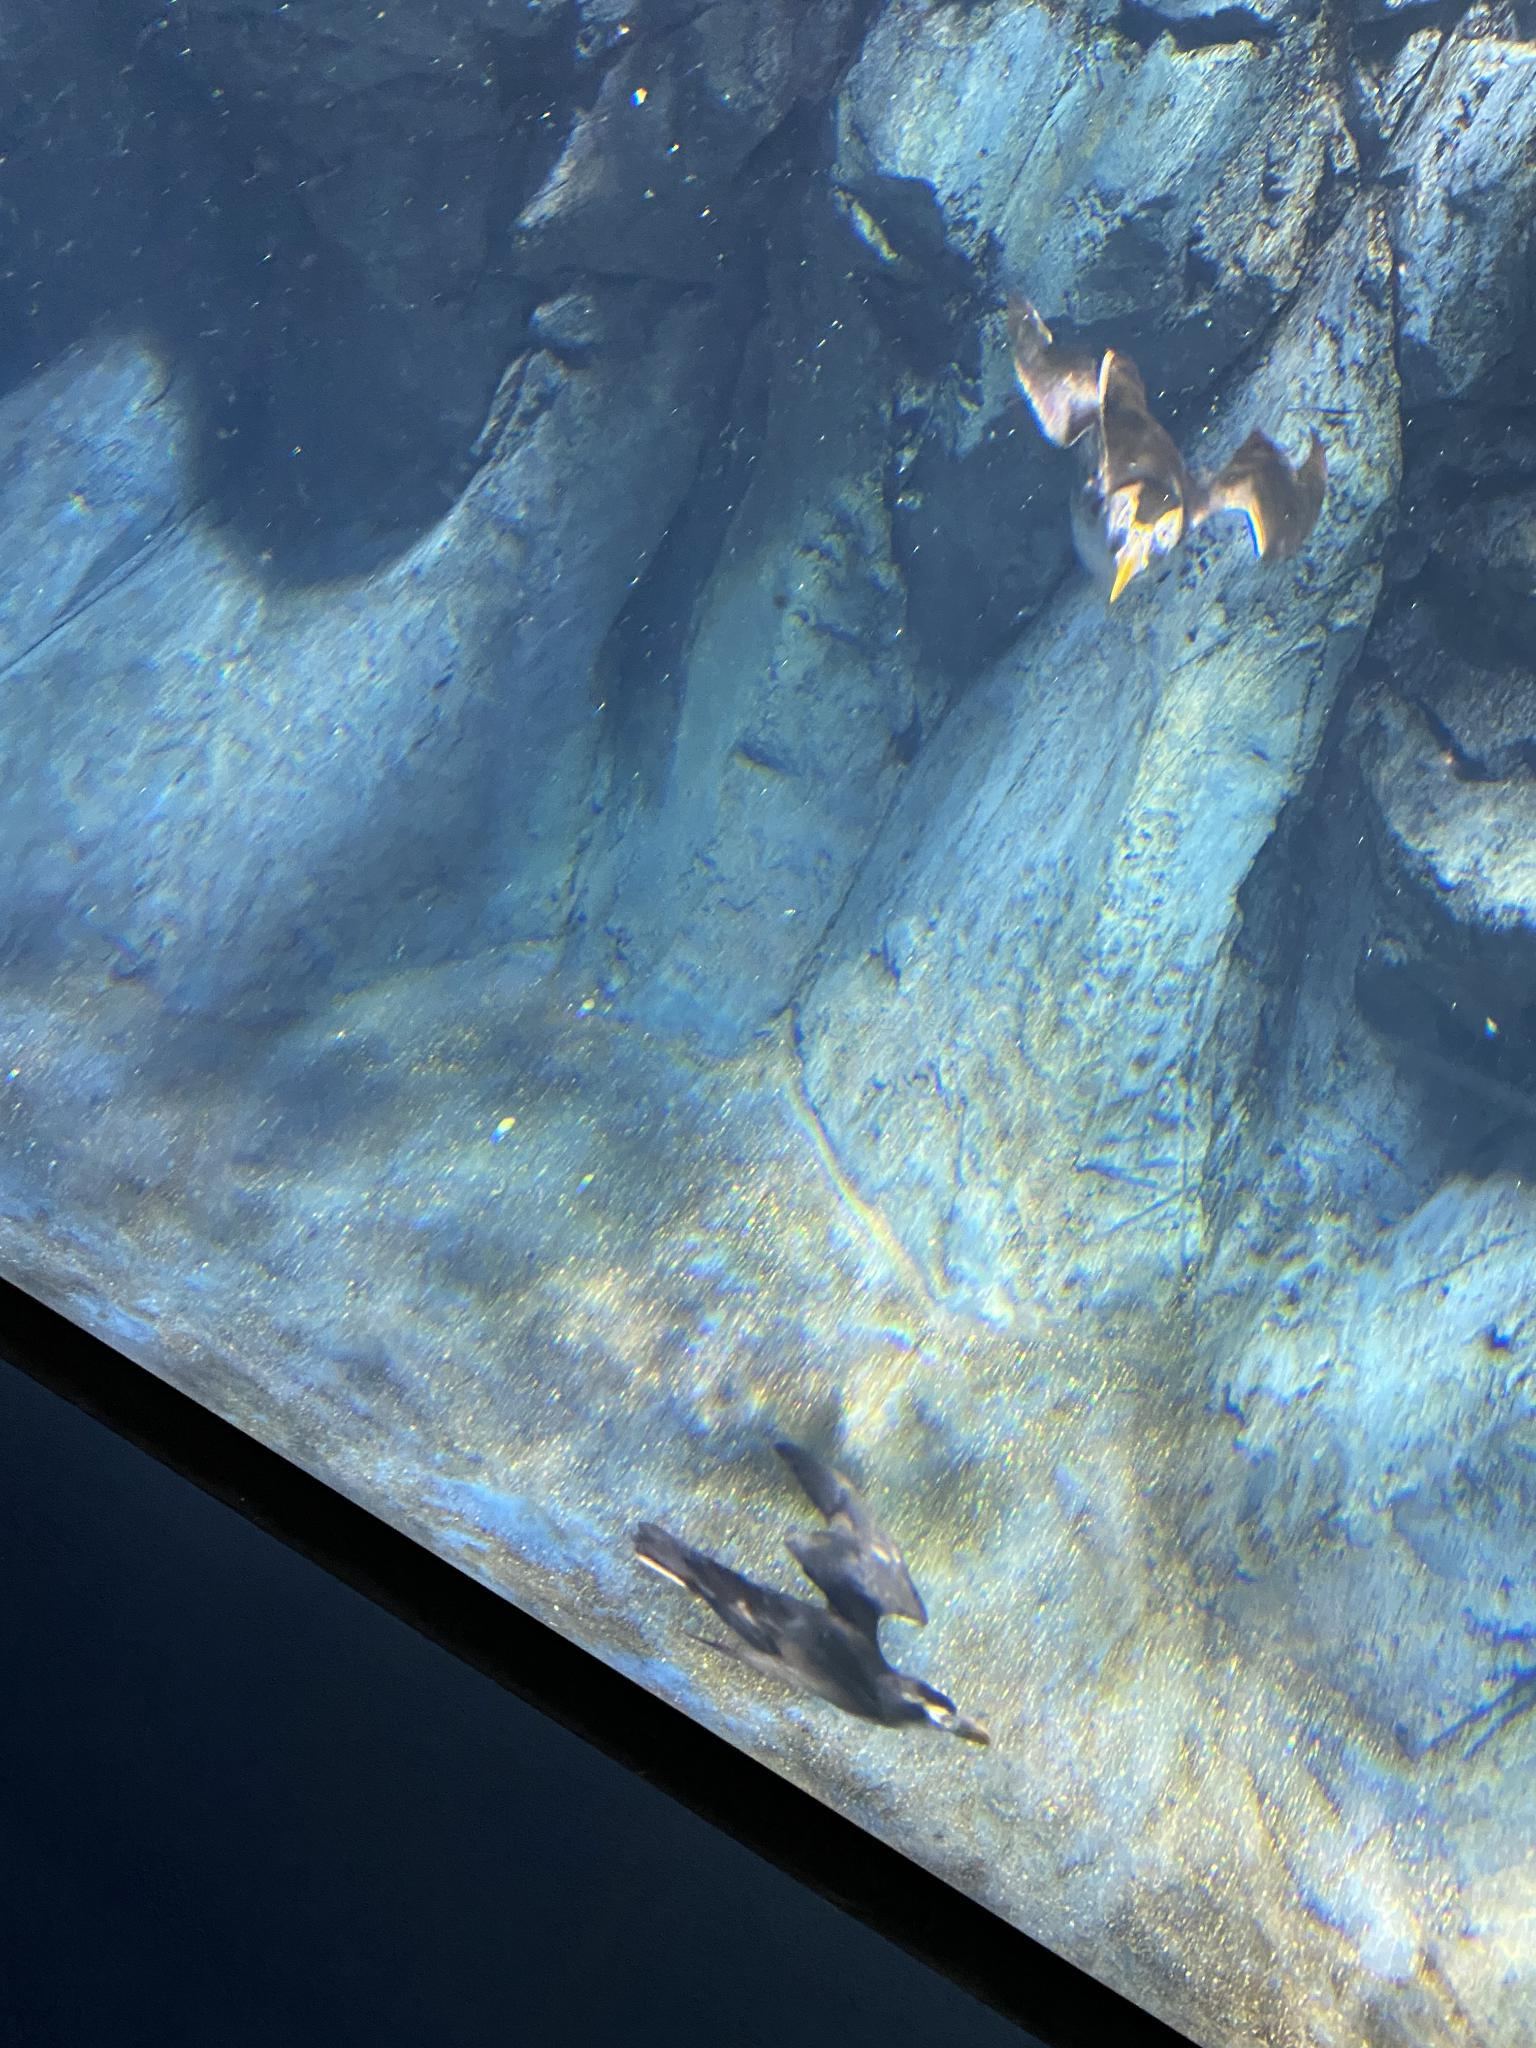puffin: (629, 1430, 1000, 1755), (992, 282, 1329, 606)
